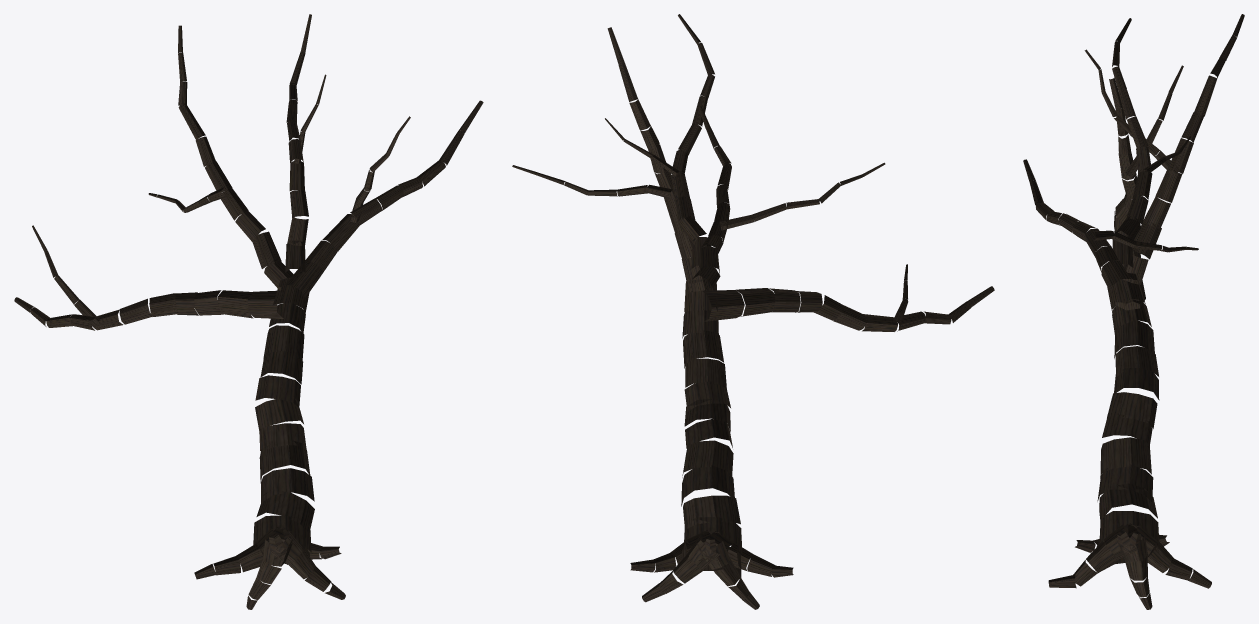
Rendered from mn_swingtree_v2.glb.
3 renders of one model, left to right at view 1: azimuth 30°, elevation 25°; view 2: azimuth 150°, elevation 25°; view 3: azimuth 270°, elevation 25°, orthographic. The views are drawn at different scales.
Parts seen in each view (by area): view 1: mn_swingtree; view 2: mn_swingtree; view 3: mn_swingtree.
Boxes of the visible parts, x1,y1,x2,y2 form: mn_swingtree: (14,14,483,609); mn_swingtree: (512,14,994,609); mn_swingtree: (1023,14,1244,609).
Size of the model in its own units: 6.93 by 8.44 by 2.95.
Materials: 1 (1 with a texture image).
